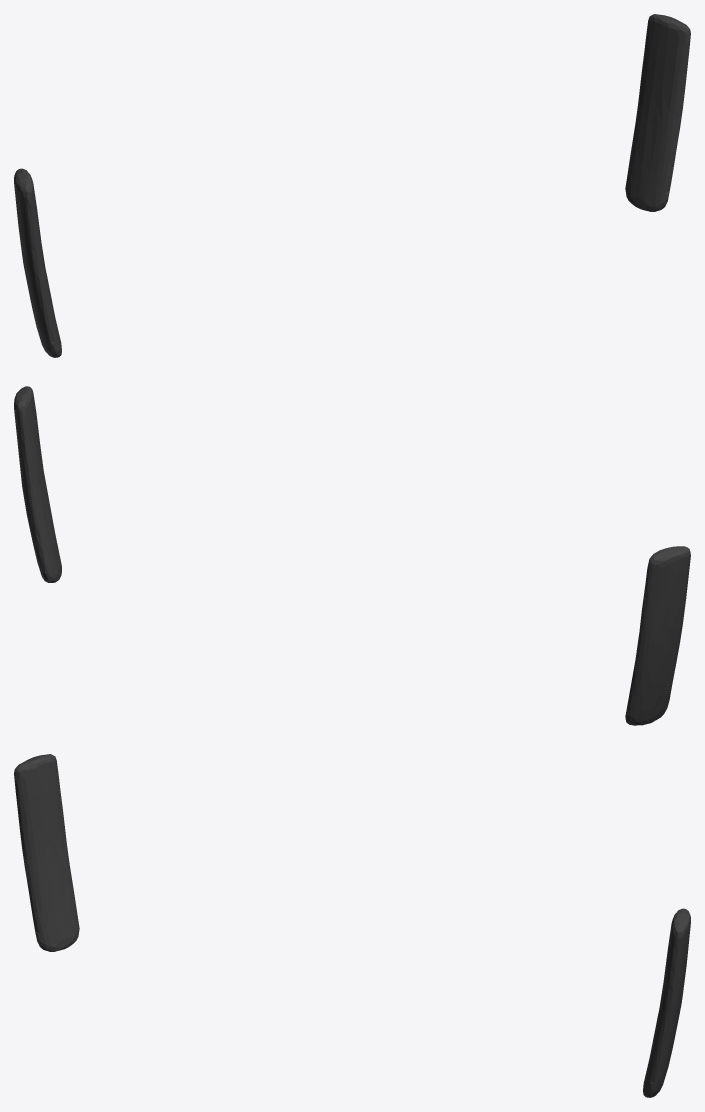
File: m_scutuloauricularis_profundus.glb
3 renders of one model, top to bottom at view 1: azimuth 30°, elevation 25°; view 2: azimuth 150°, elevation 25°; view 3: azimuth 330°, elevation 25°, orthographic.
Parts seen in each view (by area): view 1: m_scutuloauricularis_profundus; view 2: m_scutuloauricularis_profundus; view 3: m_scutuloauricularis_profundus.
Boxes of the visible parts, left/top/right/bottom form: m_scutuloauricularis_profundus: left=14, top=14, right=690, bottom=357; m_scutuloauricularis_profundus: left=14, top=386, right=690, bottom=725; m_scutuloauricularis_profundus: left=14, top=754, right=690, bottom=1097.
Bounding box in the file's own units: 0.00203 × 0.00053 × 0.000139.
1 material, 1 textured.
